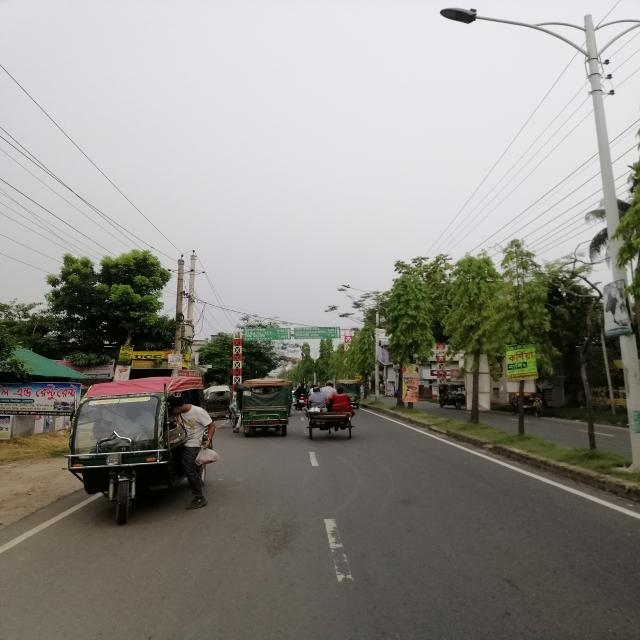Easybike: (65, 380, 219, 527), (239, 375, 296, 434)
